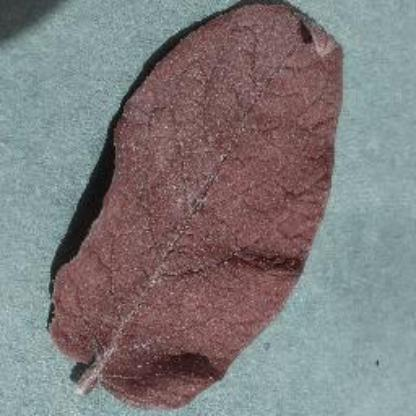Healthy-plant: (38, 0, 367, 408)
